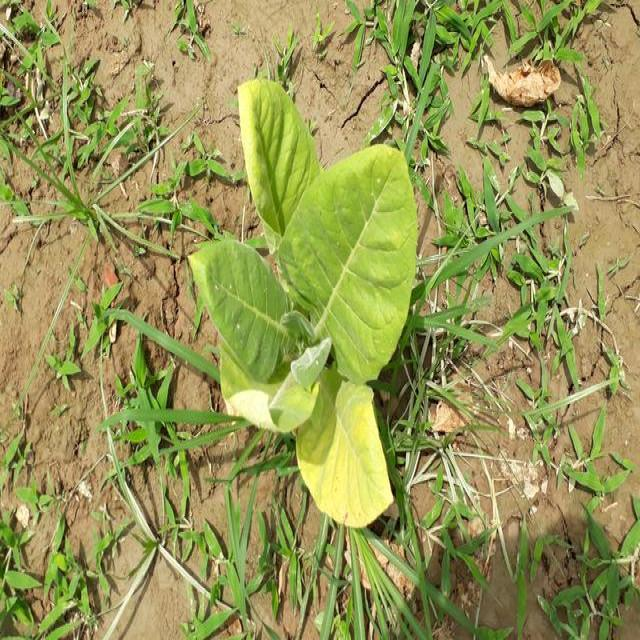crop: (202, 73, 412, 530)
